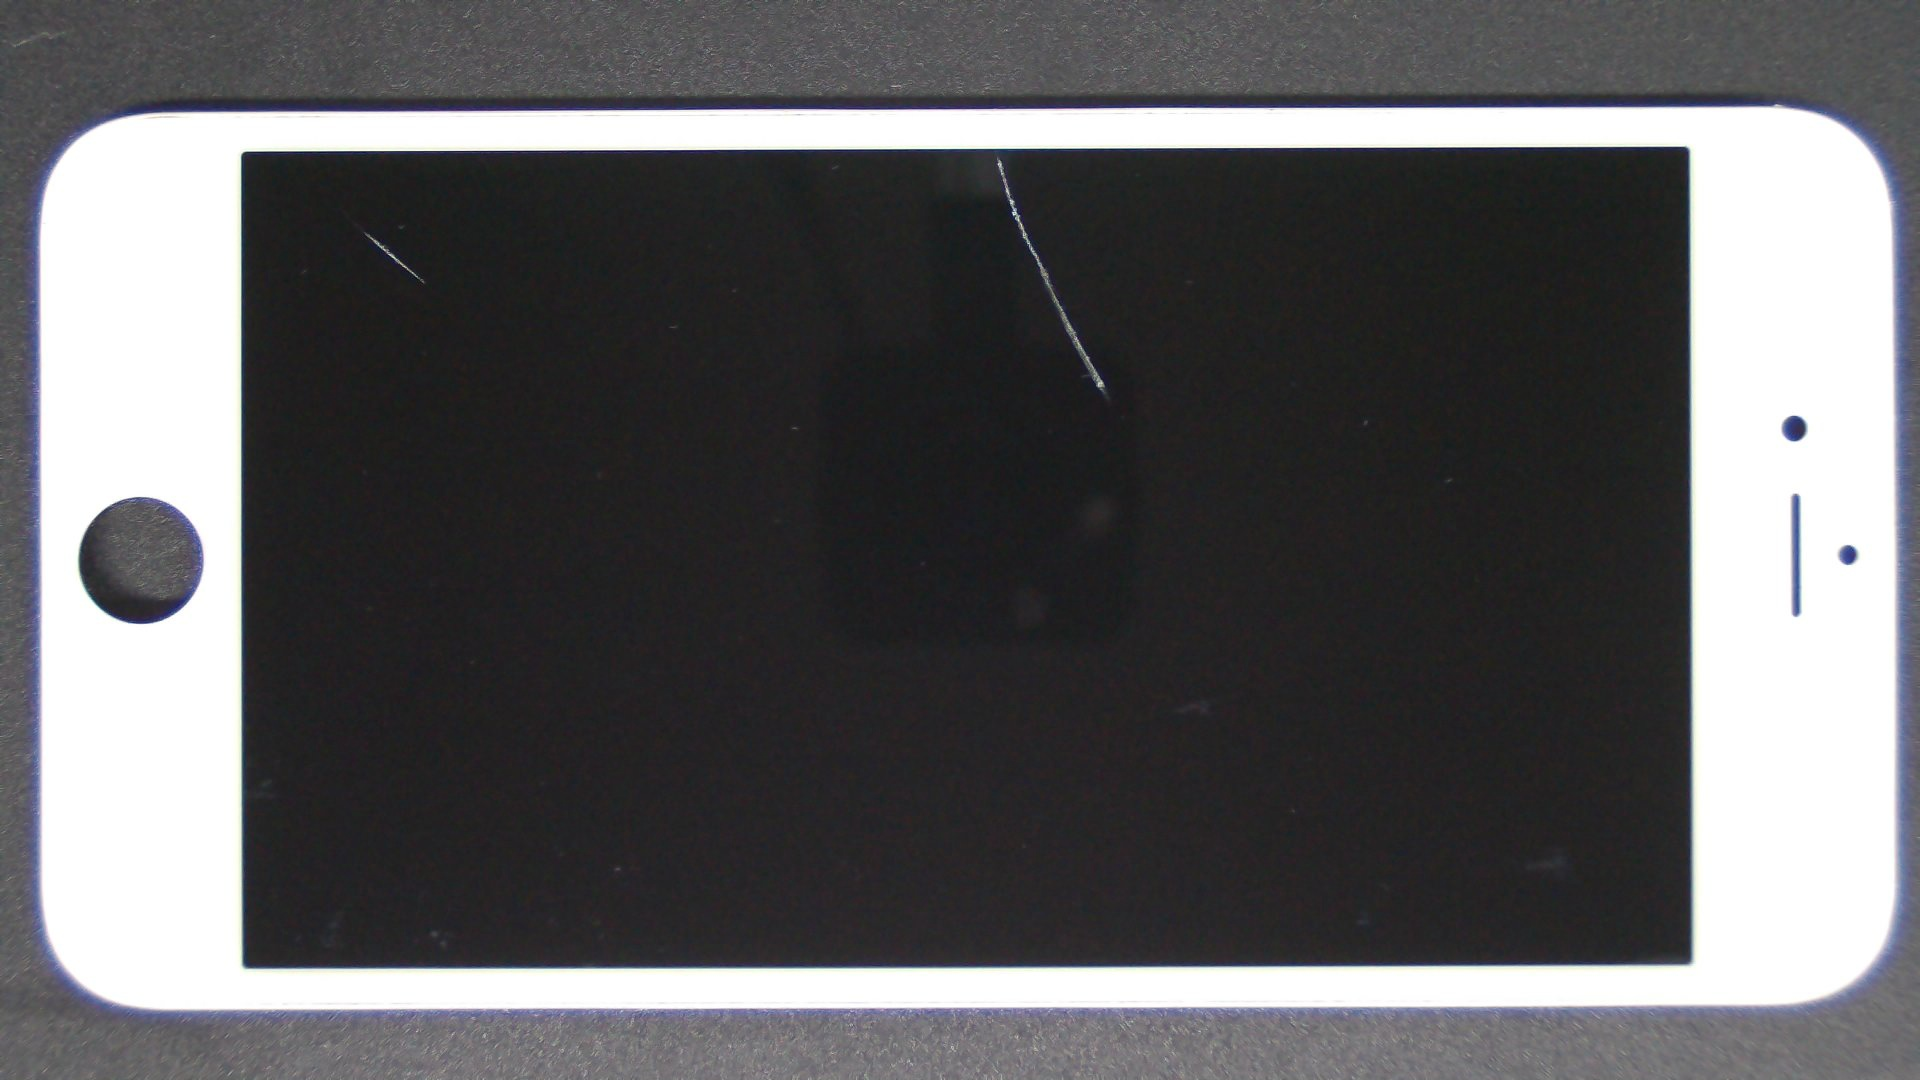oil: (500, 76, 1497, 232), (182, 115, 545, 345)
